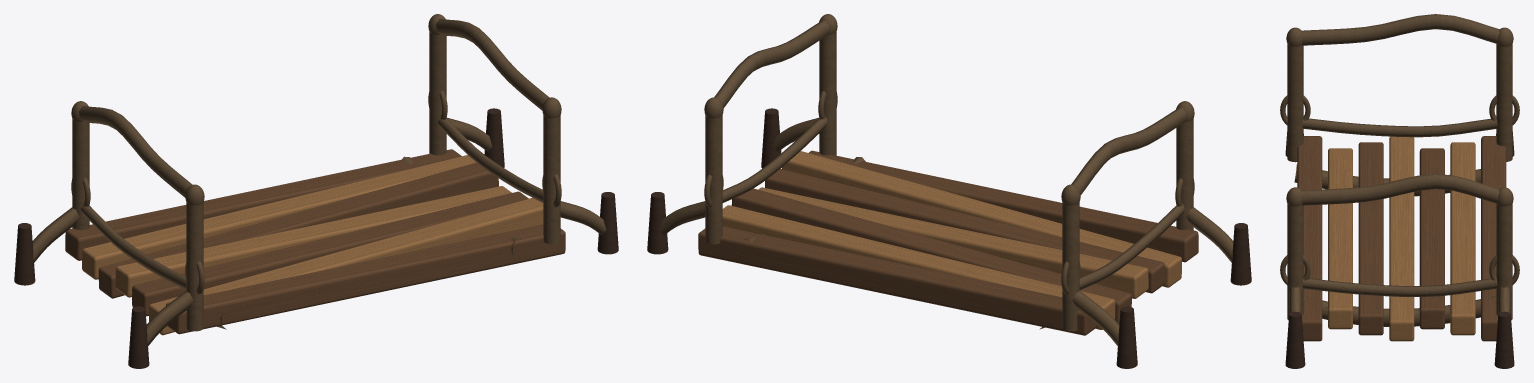
Rendered from rope_bridge.glb.
3 views of the same model, side by side, from view 1: azimuth 30°, elevation 25°; view 2: azimuth 150°, elevation 25°; view 3: azimuth 270°, elevation 25° (orthographic). The views are drawn at different scales.
Parts seen in each view (by area): view 1: rope_bridge; view 2: rope_bridge; view 3: rope_bridge.
Boxes of the visible parts, x1,y1,x2,y2 form: rope_bridge: [14, 14, 618, 368]; rope_bridge: [647, 14, 1251, 368]; rope_bridge: [1280, 14, 1519, 368].
Size of the model in its own units: 2.8 by 1 by 1.3.
Materials: 1 (1 with a texture image).
